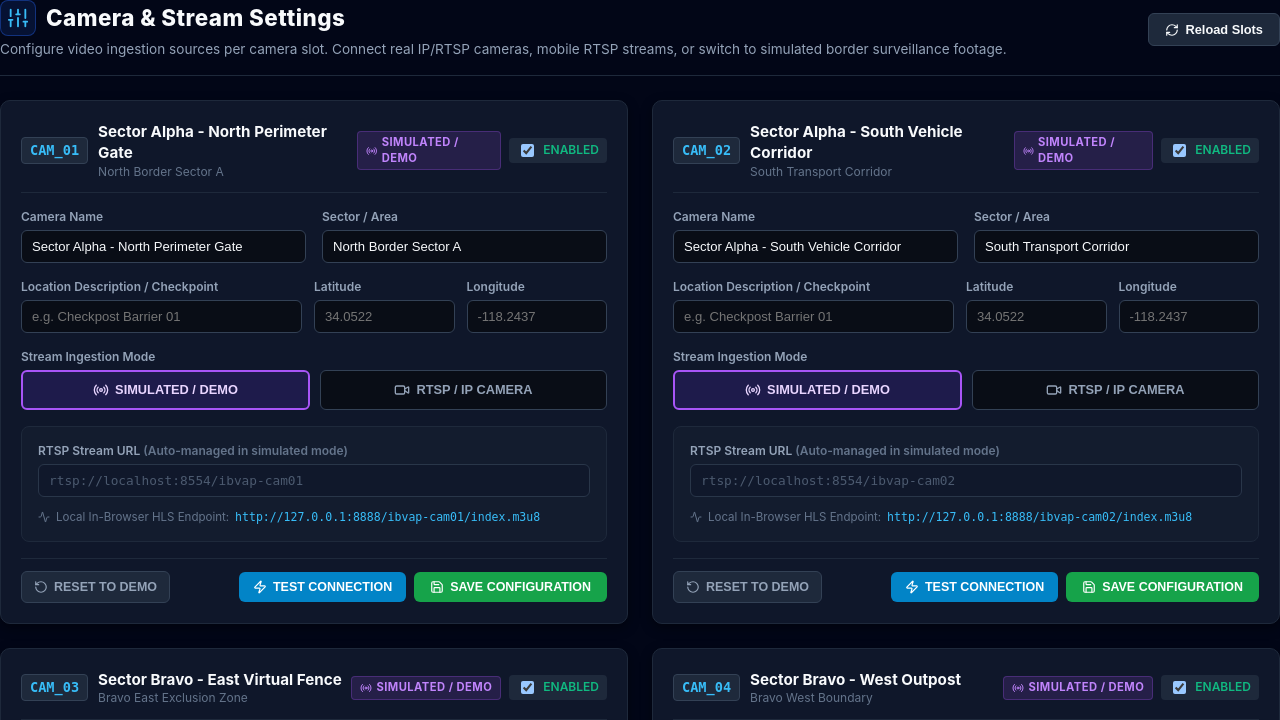
Test: CameraSettingsPage Component › resets camera to simulated demo stream
Click the button "RESET TO DEMO" below "cam01" at (96, 587), box [21,571,170,603]
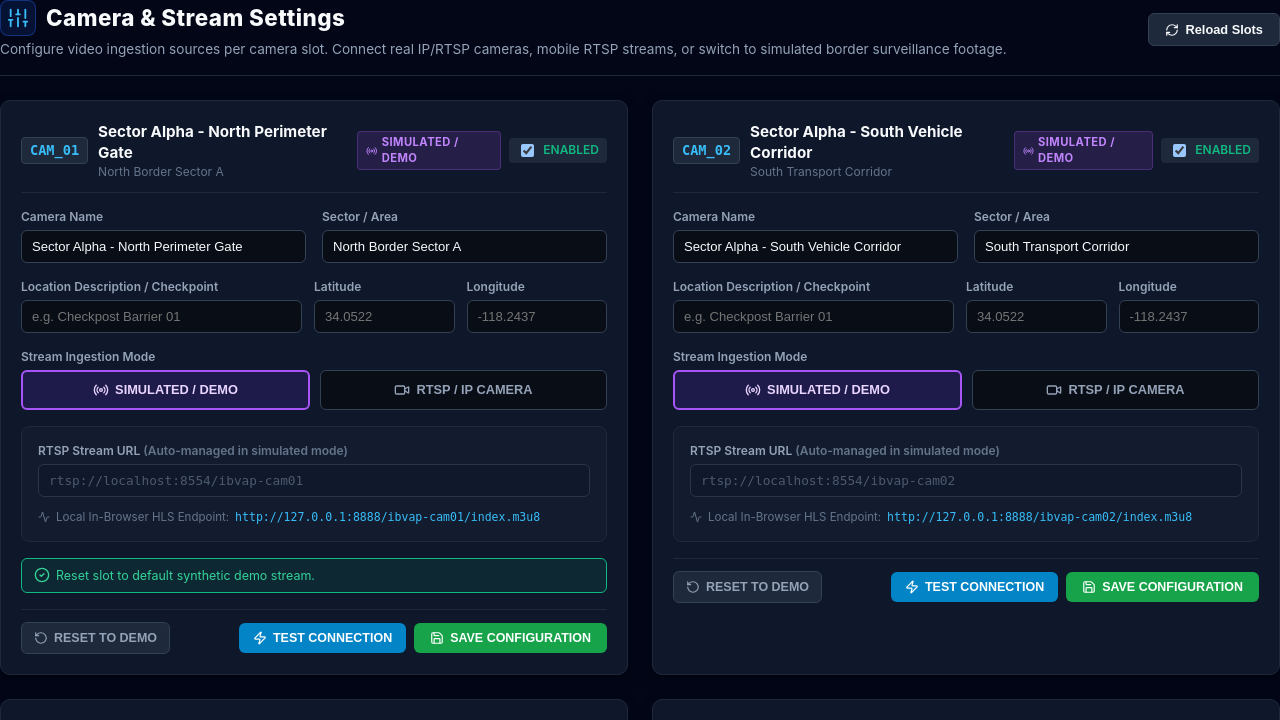
Expected: the text "Reset slot to default synthetic demo stream." is shown, [21,558,607,593]
